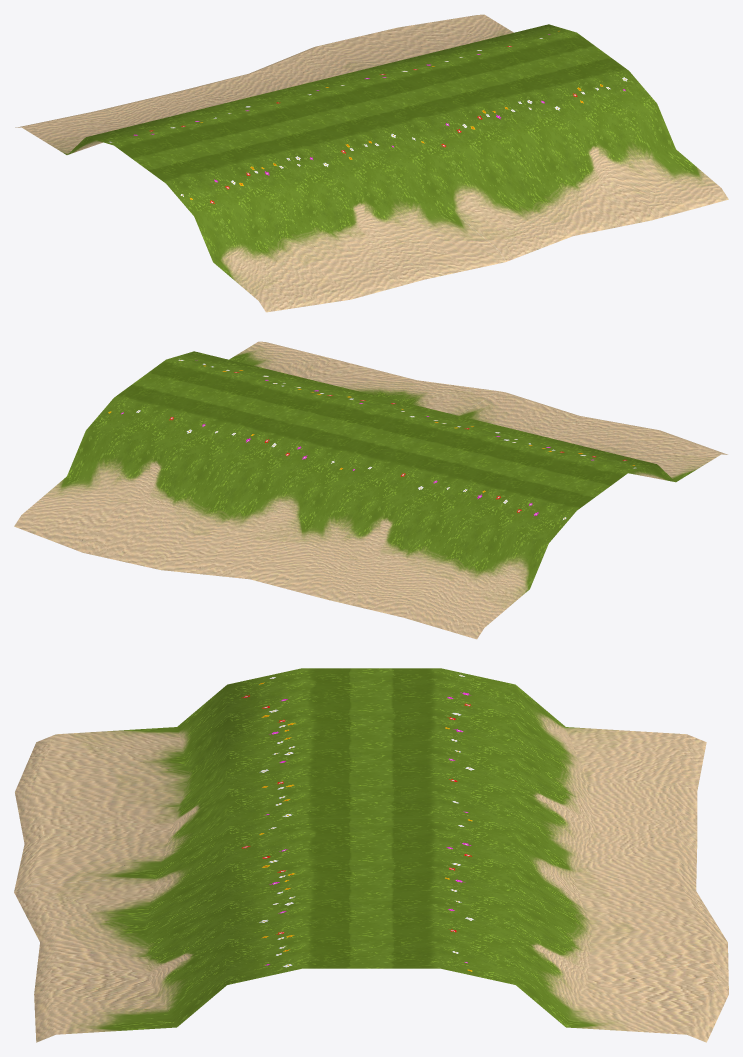
File: Ground.fbx
The picture shows the model from 3 angles, top to bottom: view 1: azimuth 30°, elevation 25°; view 2: azimuth 150°, elevation 25°; view 3: azimuth 270°, elevation 25°; orthographic projection. The views are drawn at different scales.
Parts seen in each view (by area): view 1: Ground; view 2: Ground; view 3: Ground.
Boxes of the visible parts, x1,y1,x2,y2 form: Ground: (15,14,728,312); Ground: (14,341,727,639); Ground: (14,668,728,1042).
Bounding box in the file's own units: 105 × 12.42 × 106.
